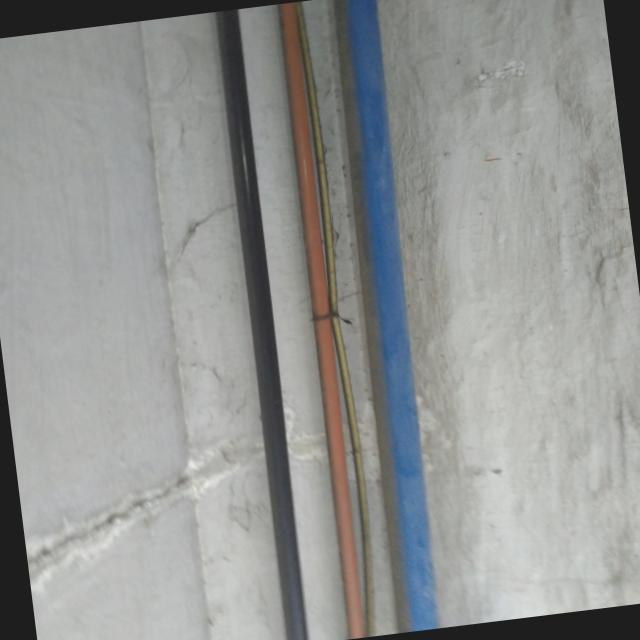gas: (319, 0, 452, 633), (266, 0, 383, 639), (204, 8, 315, 640)
